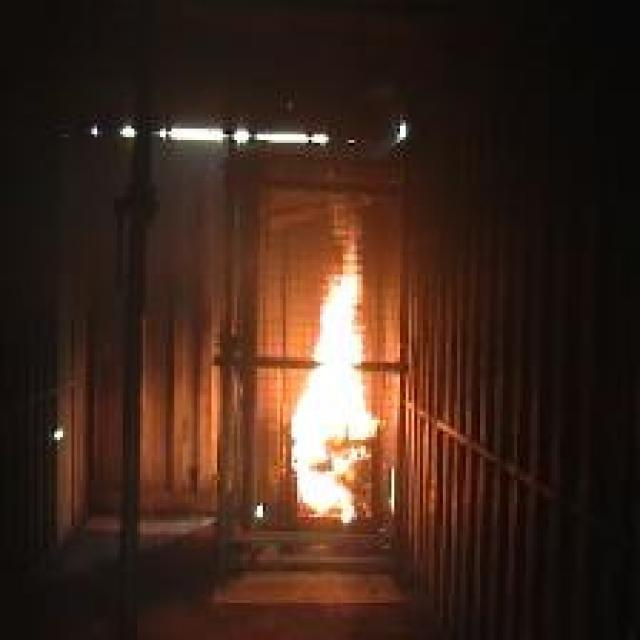Fire: (291, 234, 380, 526)
